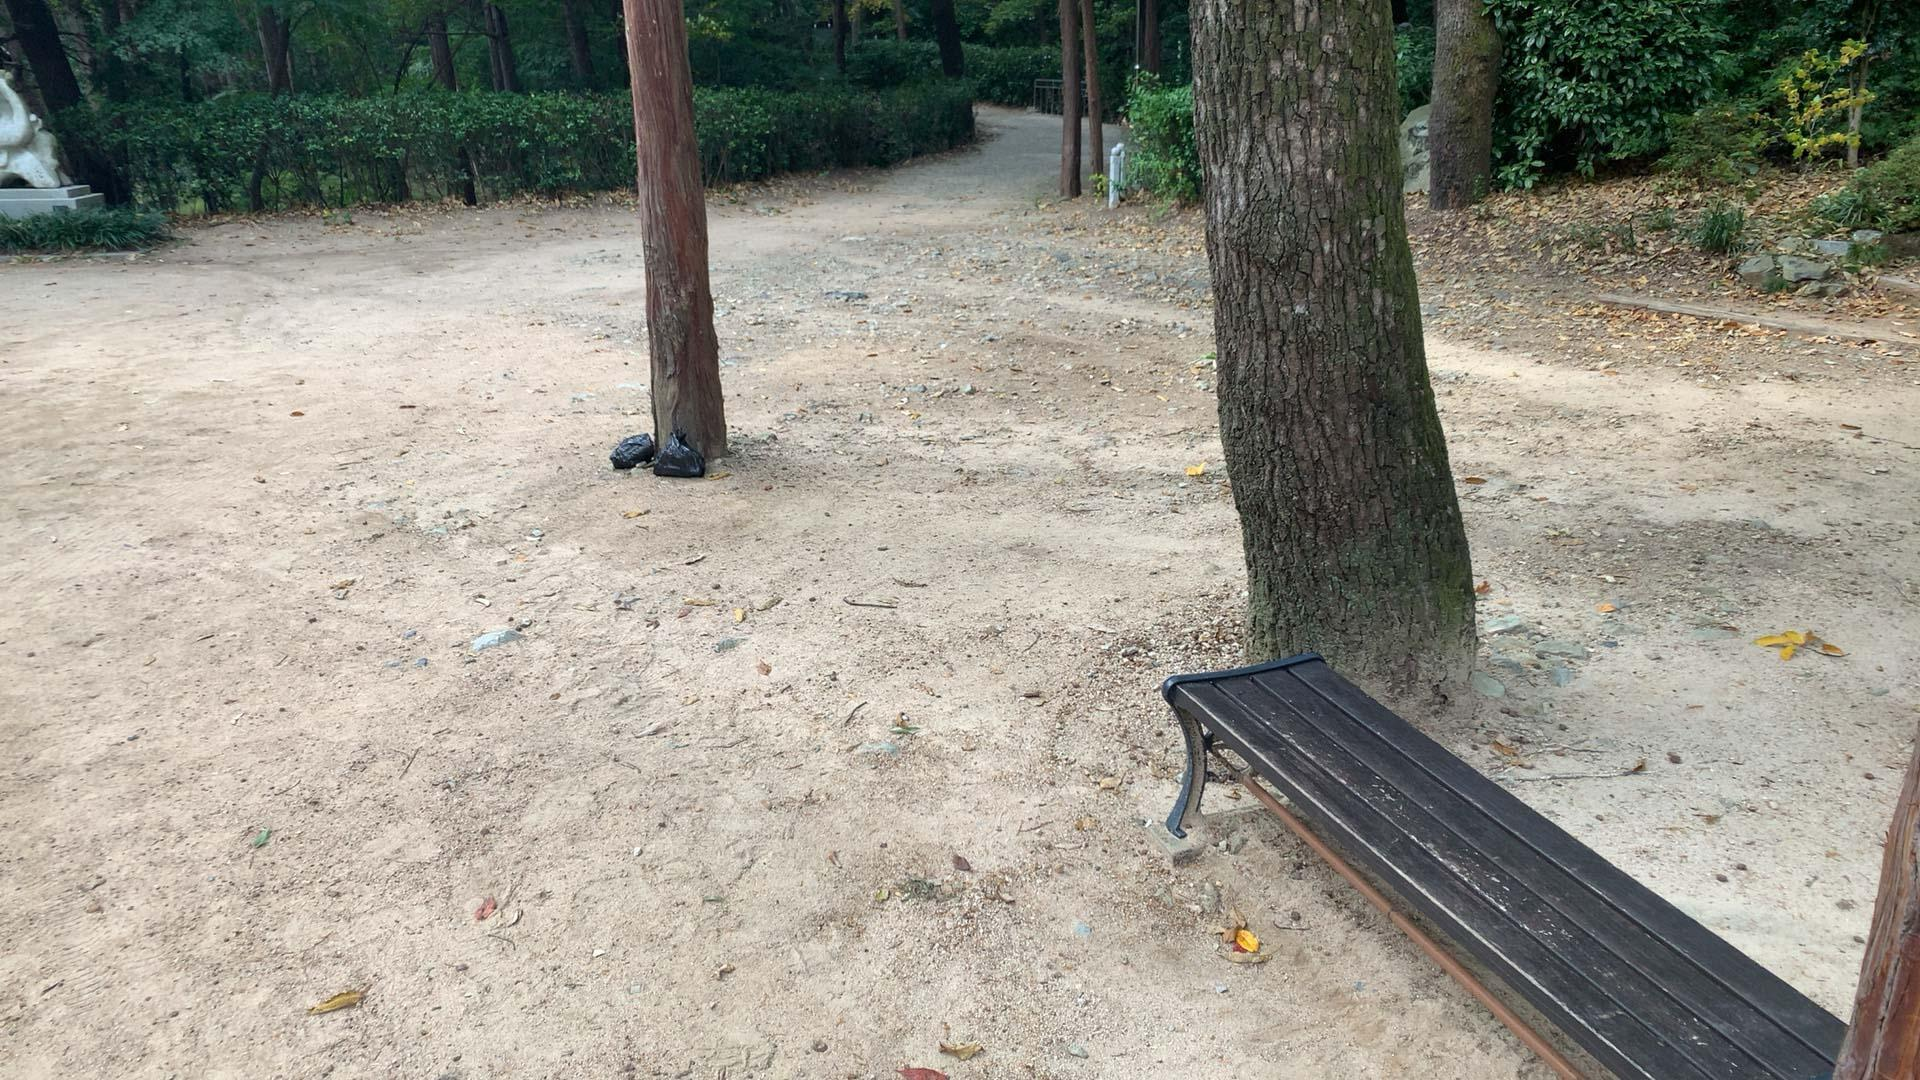black_bag: (650, 429, 705, 480), (608, 430, 654, 469)
